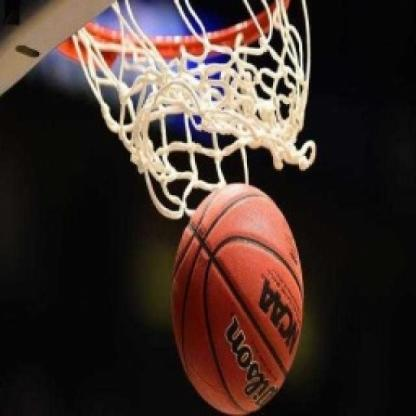basketball: (167, 182, 309, 416)
